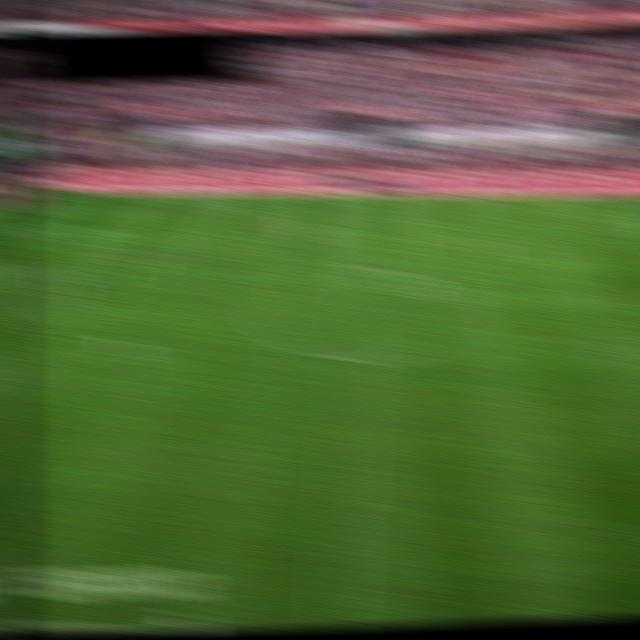bigarea_top_inner: (81, 221, 116, 235)
corner: (20, 188, 55, 203)
halfcircle_bottom: (339, 351, 374, 365)
halfcircle_top: (347, 260, 380, 274)
midline_top_intersection: (352, 190, 386, 205)
top_arc_area_intersection: (37, 264, 72, 277)
